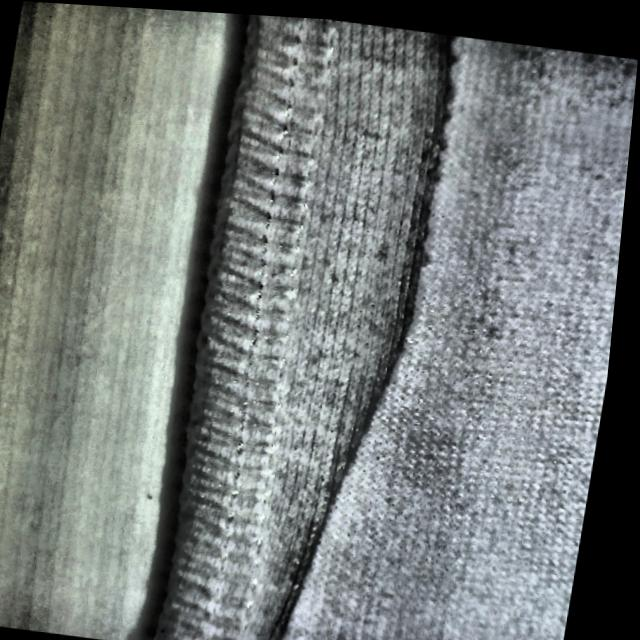seam: (165, 10, 528, 547)
